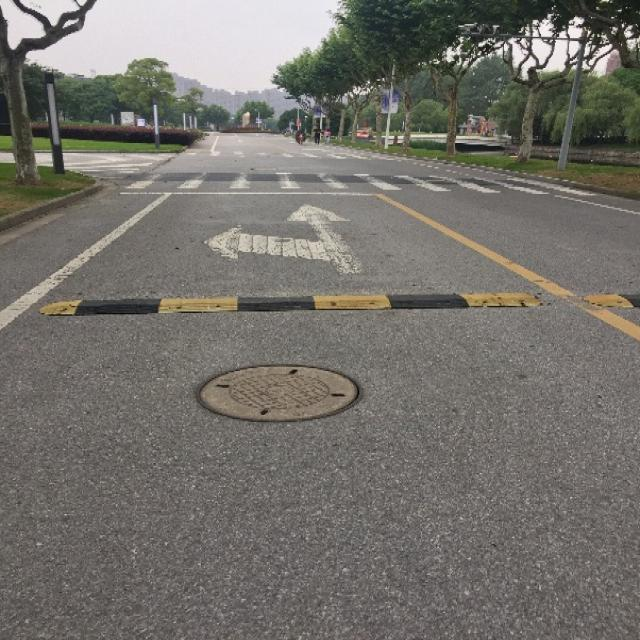Speed Bump: (34, 282, 639, 321)
